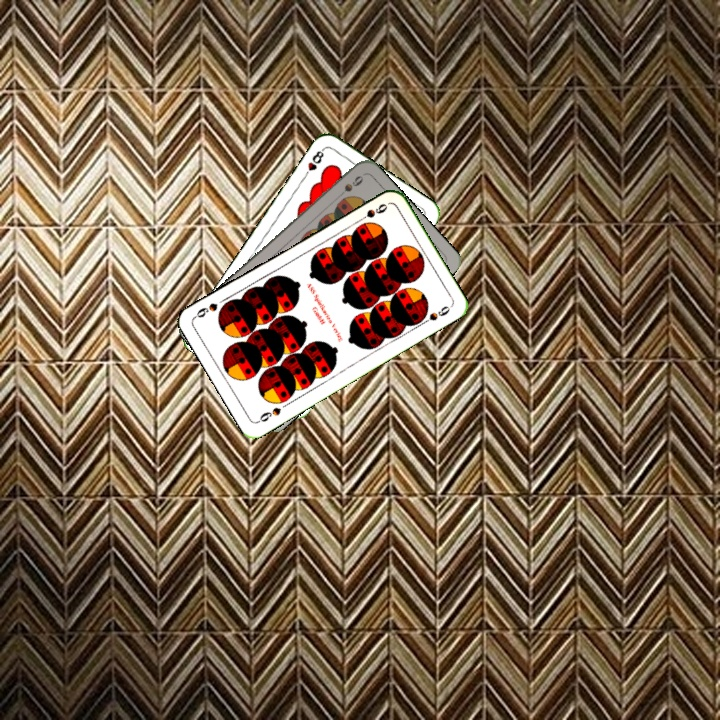H8: (299, 144, 327, 181)
S9: (332, 171, 366, 202), (353, 199, 390, 225), (254, 403, 284, 425)
